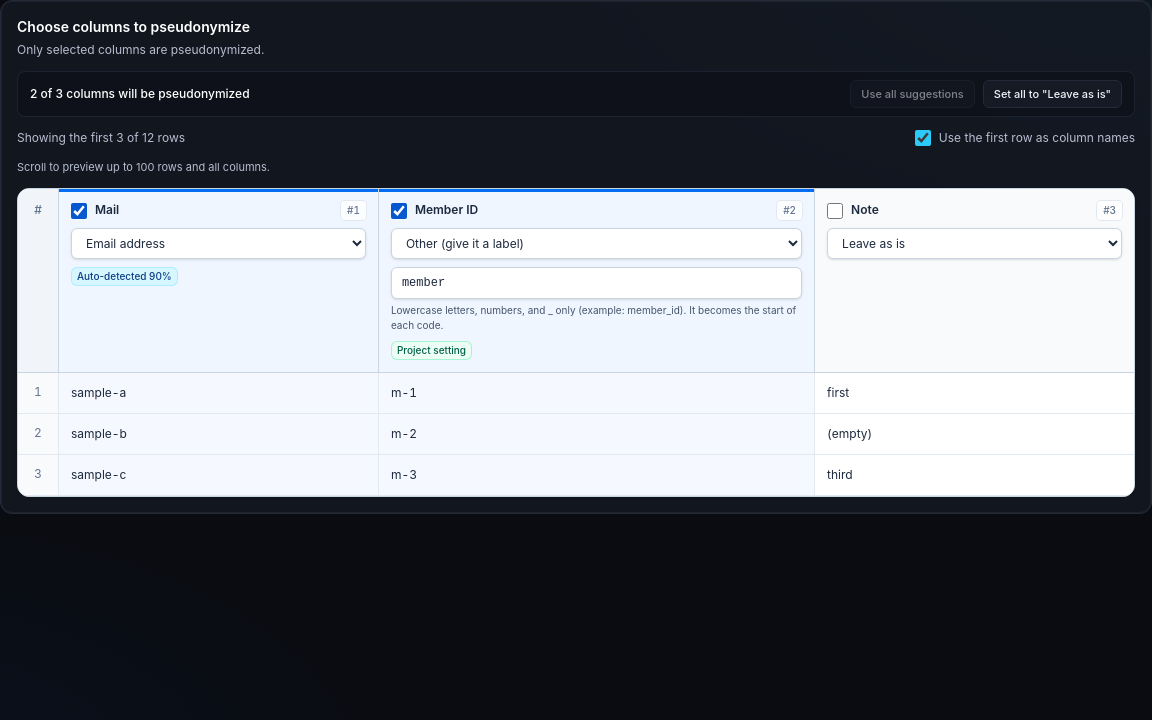
Test: PseudonymizeColumnPanel › selects columns from the preview and preserves the chosen kind when toggled
This screenshot has width=1152, height=720.
Check: the checkbox named "Pseudonymize Mail (column 1)" is checked, box [71,202,87,218]
Click the checkbox named "Pseudonymize Note (column 3)" at x=835, y=210, box [827,202,843,218]
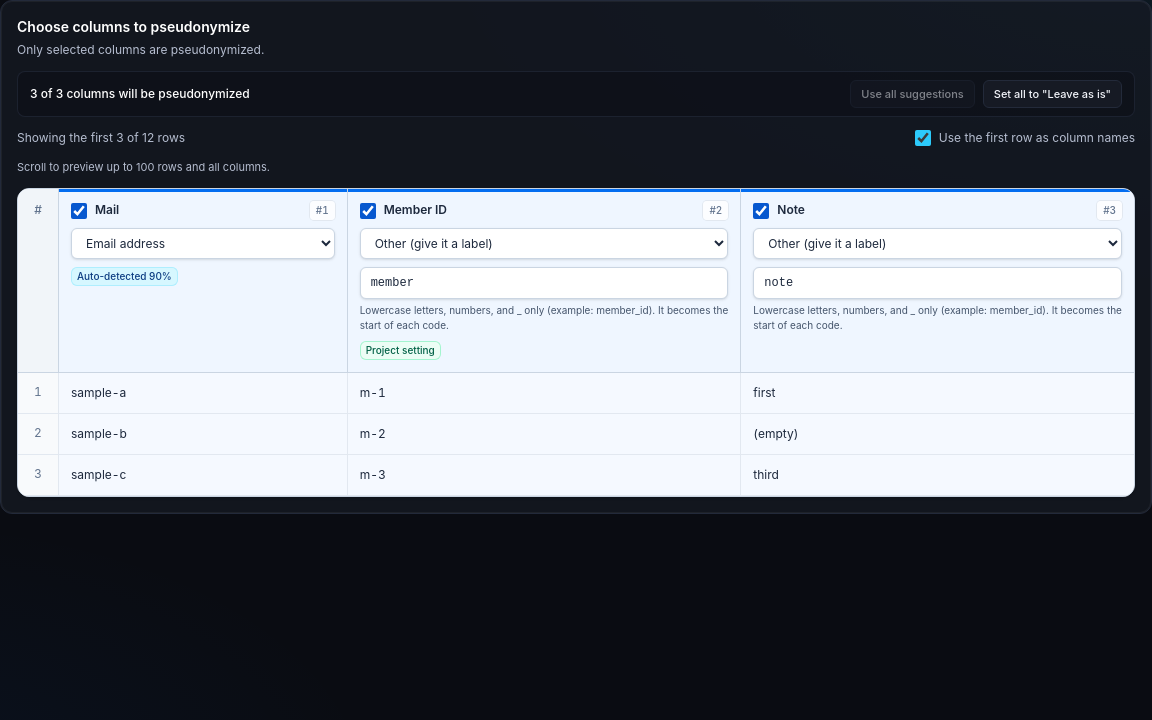
Check: the dropdown named "How to treat Note" shows "Other (give it a label)"
Select "Person's name" in the dropdown named "How to treat Note" at x=938, y=243, box [753,228,1122,258]
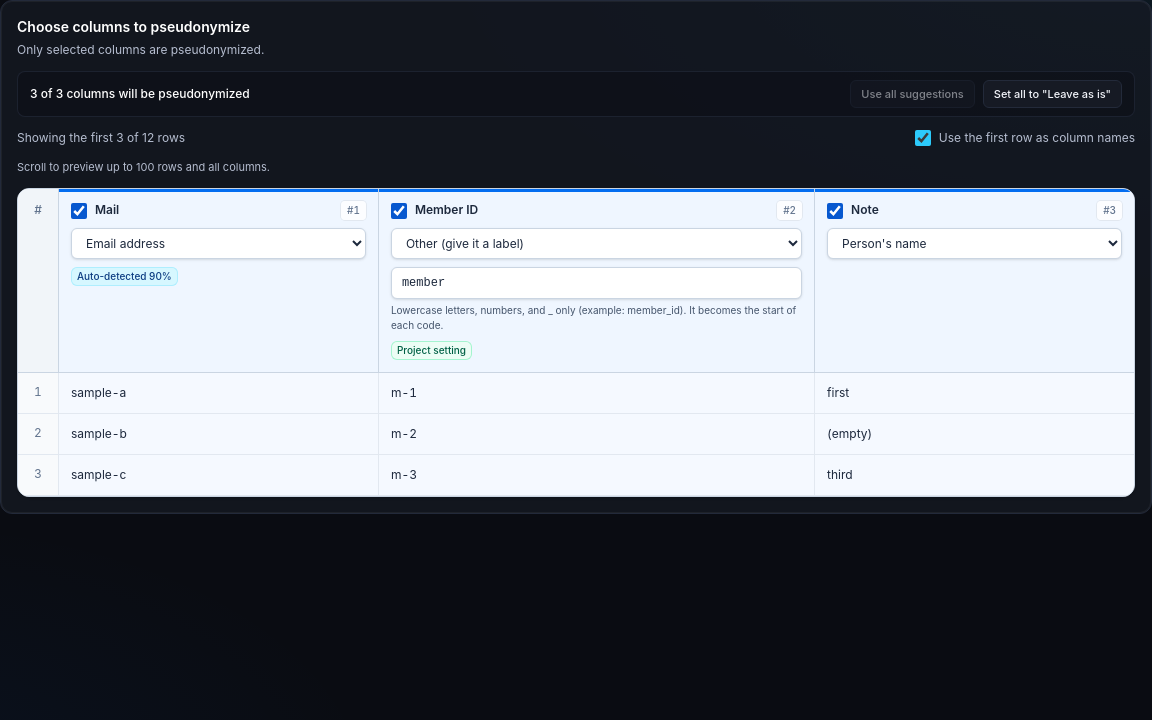
Click the checkbox named "Pseudonymize Note (column 3)" at x=835, y=210, box [827,202,843,218]
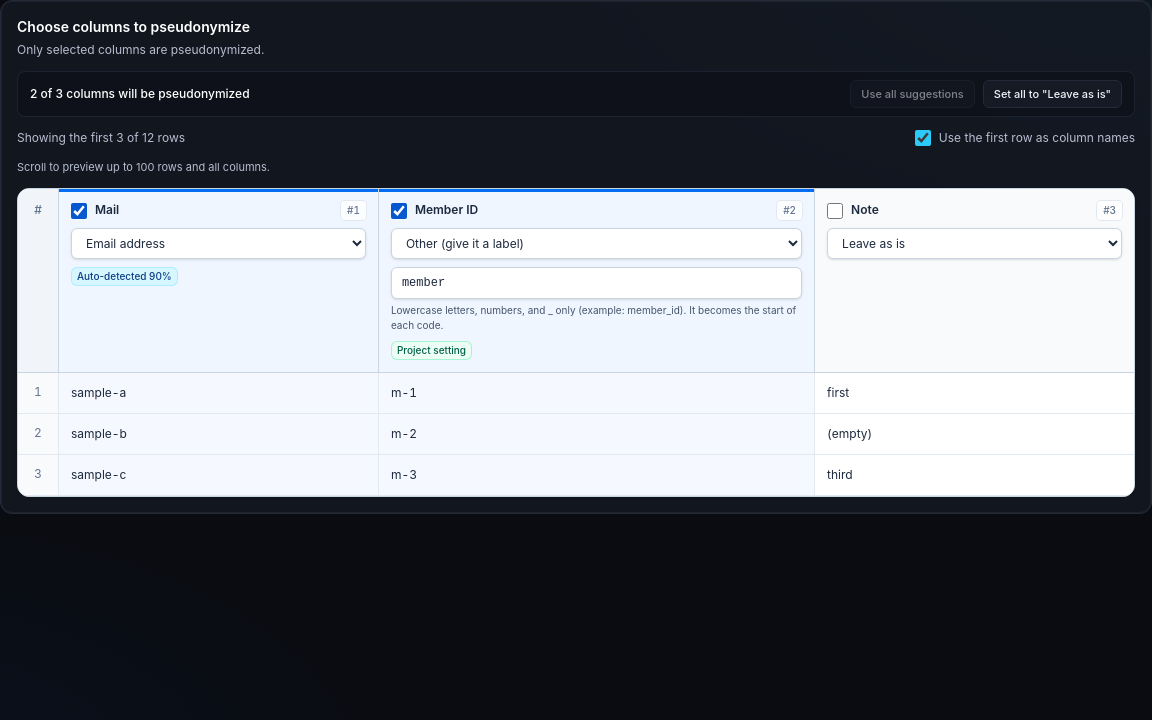
Click the checkbox named "Pseudonymize Note (column 3)" at x=835, y=210, box [827,202,843,218]
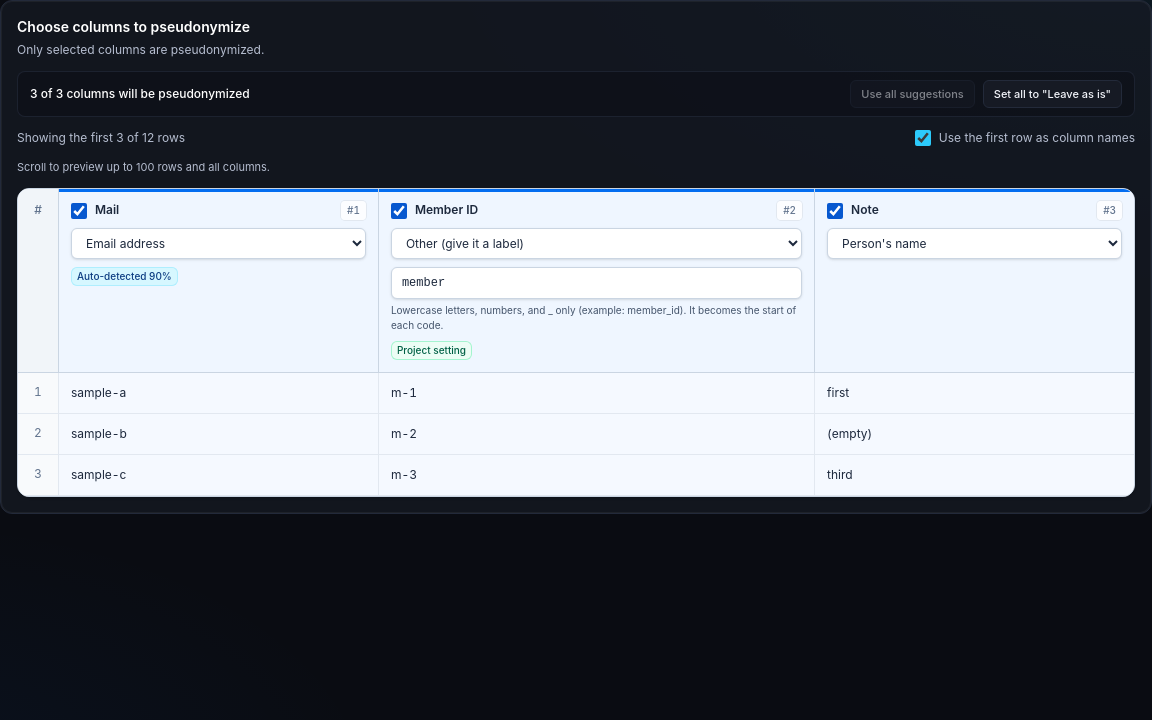
Check: the cells read "sample-a", "m-1", "first", in this order, box [58,372,378,414]; [378,372,814,414]; [814,372,1134,414]
Check: the text "3 of 3 columns will be pseudonymized" is shown, box [30,85,250,103]
